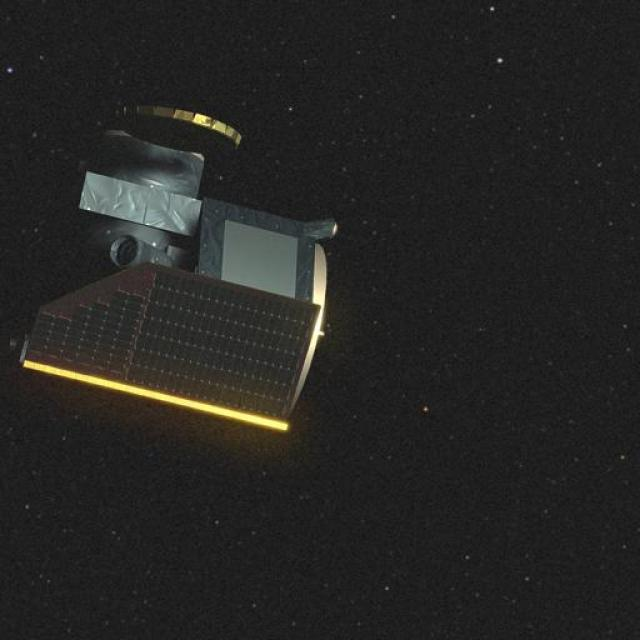cheops: (42, 81, 334, 456)
